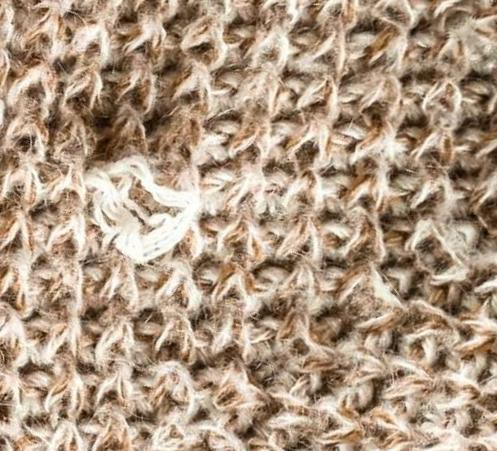snag: (83, 143, 208, 270)
